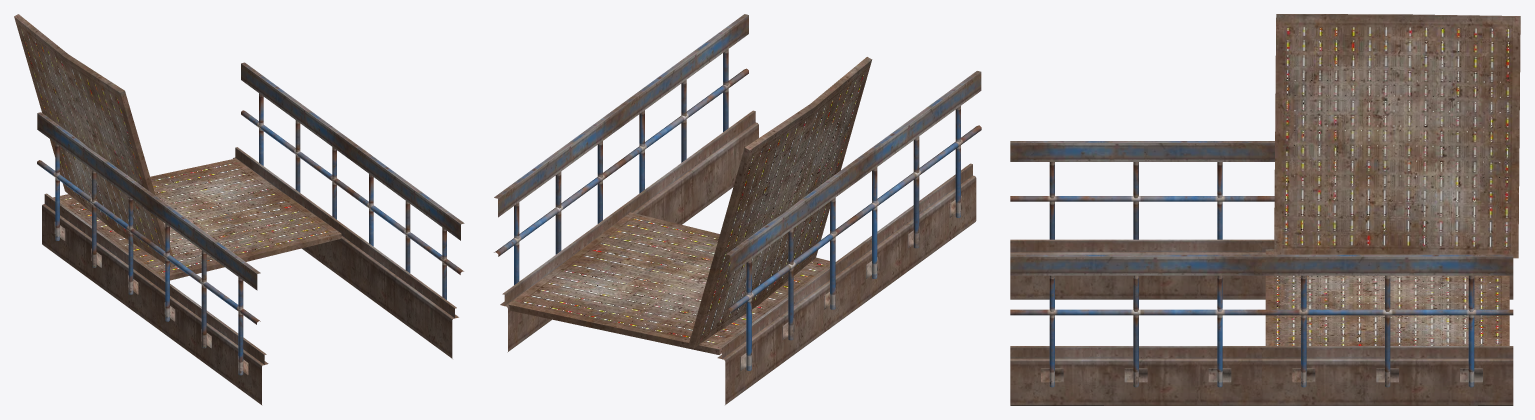
Rendered from walkway_a_300x600_dmg_b.glb.
3 views of the same model, side by side, from view 1: azimuth 30°, elevation 25°; view 2: azimuth 150°, elevation 25°; view 3: azimuth 270°, elevation 25° (orthographic). The views are drawn at different scales.
Visible parts, largest first — view 1: walkway_a_300x600_dmg_b; view 2: walkway_a_300x600_dmg_b; view 3: walkway_a_300x600_dmg_b.
Boxes of the visible parts, x1,y1,x2,y2 form: walkway_a_300x600_dmg_b: (14,14,464,405); walkway_a_300x600_dmg_b: (494,14,981,404); walkway_a_300x600_dmg_b: (1010,14,1520,405).
Bounding box in the file's own units: 3.65 × 3.54 × 6.09.
1 material, 1 textured.
